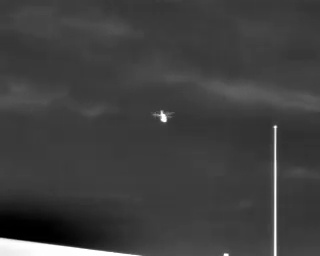HELICOPTER: (147, 104, 179, 129)
